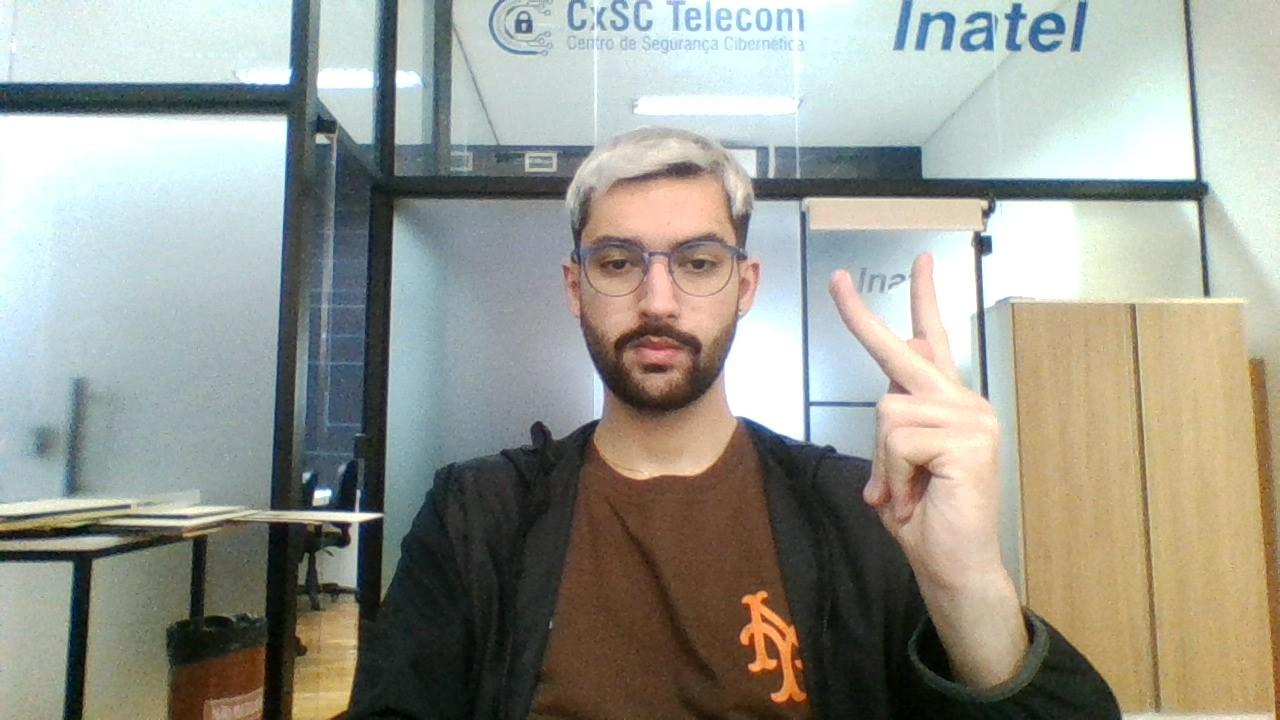K: (814, 240, 1010, 550)
